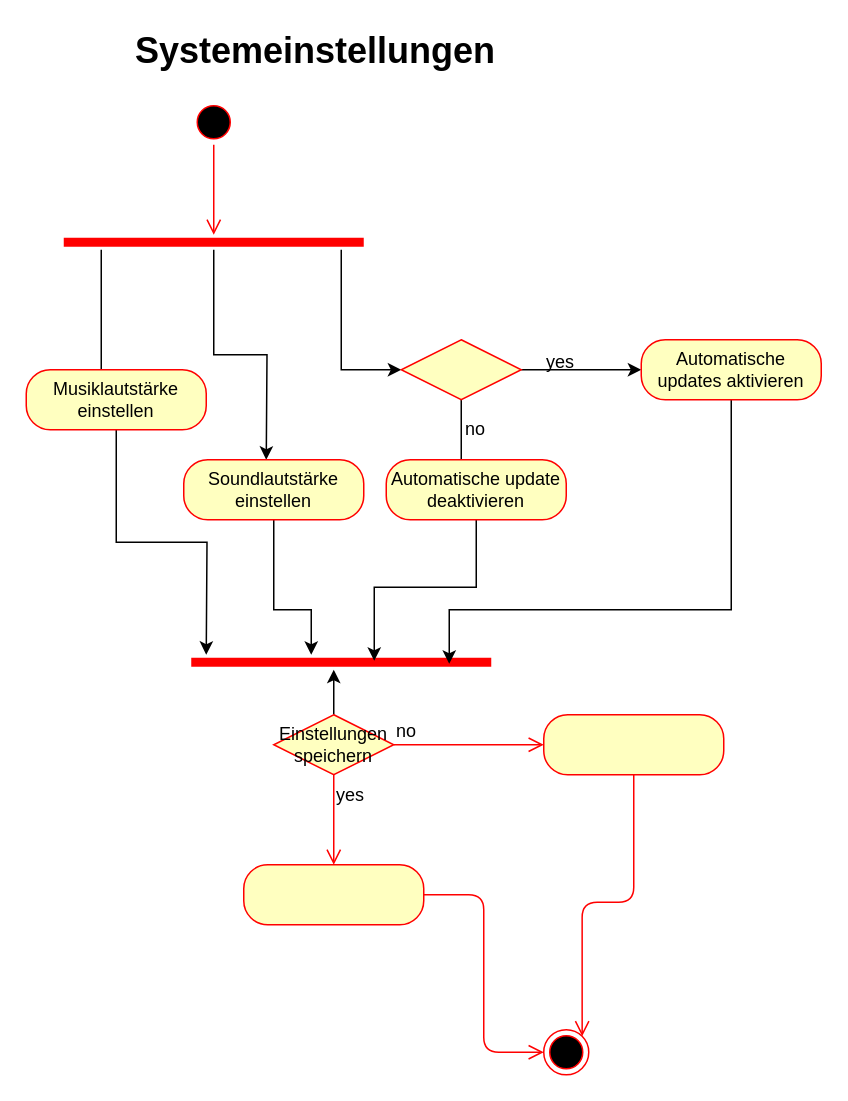
Some shapes in this 848 by 1101 pixel diagram are drawn without their labels. Here are the shapes that lost their labels. From the top down, the centre of each, then its label:
At pixel 460 369: "Automatische updates".
At pixel 633 744: "Einstellungen verwerfen".
At pixel 333 894: "Einstellungen übernehmen".
